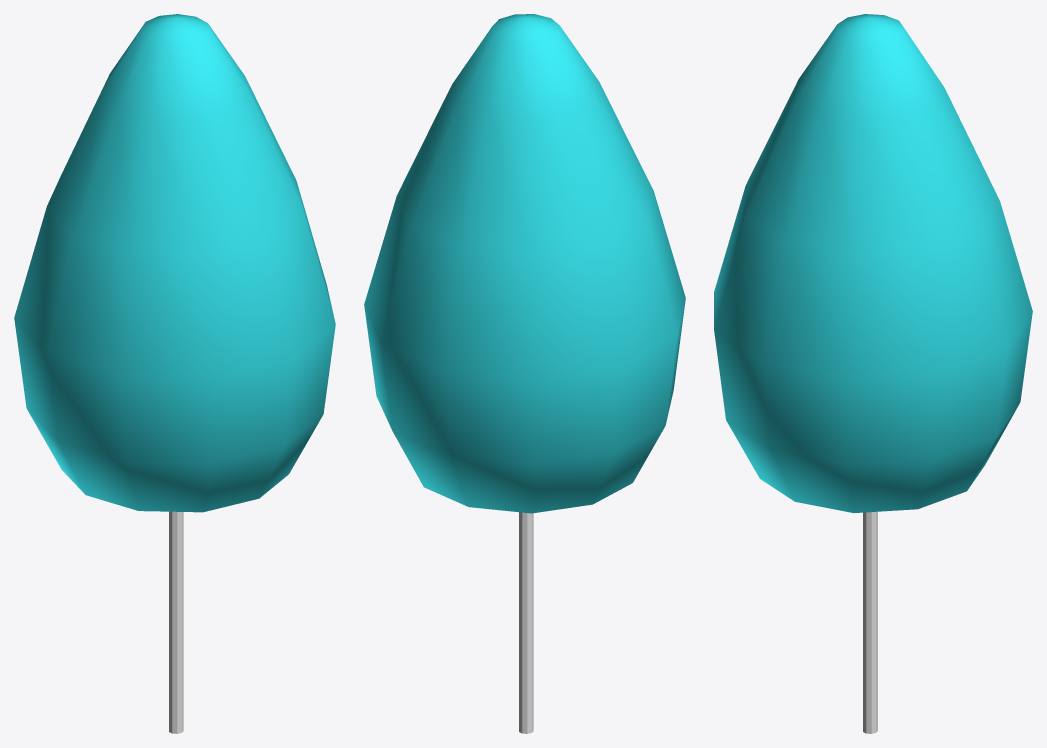
File: 1_BlueTree.fbx
The picture shows the model from 3 angles, left to right: view 1: azimuth 30°, elevation 25°; view 2: azimuth 150°, elevation 25°; view 3: azimuth 270°, elevation 25°; orthographic projection.
Parts seen in each view (by area): view 1: Sphere.066, Cylinder.052; view 2: Sphere.066, Cylinder.052; view 3: Sphere.066, Cylinder.052.
Part boxes in pixels (x1,y1,x2,y2): Sphere.066: (14, 14, 335, 512); Cylinder.052: (169, 511, 183, 733); Sphere.066: (364, 14, 685, 513); Cylinder.052: (519, 512, 533, 733); Sphere.066: (714, 14, 1032, 512); Cylinder.052: (863, 511, 877, 733).
Bounding box in the file's own units: 119 × 290 × 118.
